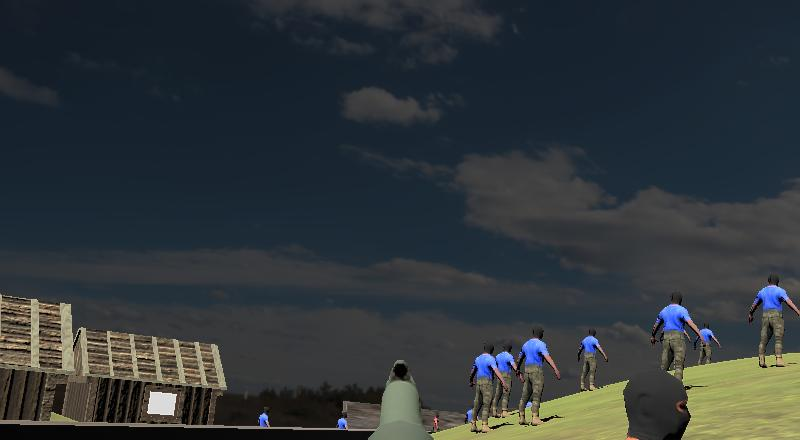Human: (651, 290, 702, 392), (748, 273, 800, 368), (516, 325, 560, 426), (470, 342, 506, 433), (469, 343, 505, 432), (490, 342, 522, 417), (578, 326, 608, 392), (337, 408, 351, 431)
